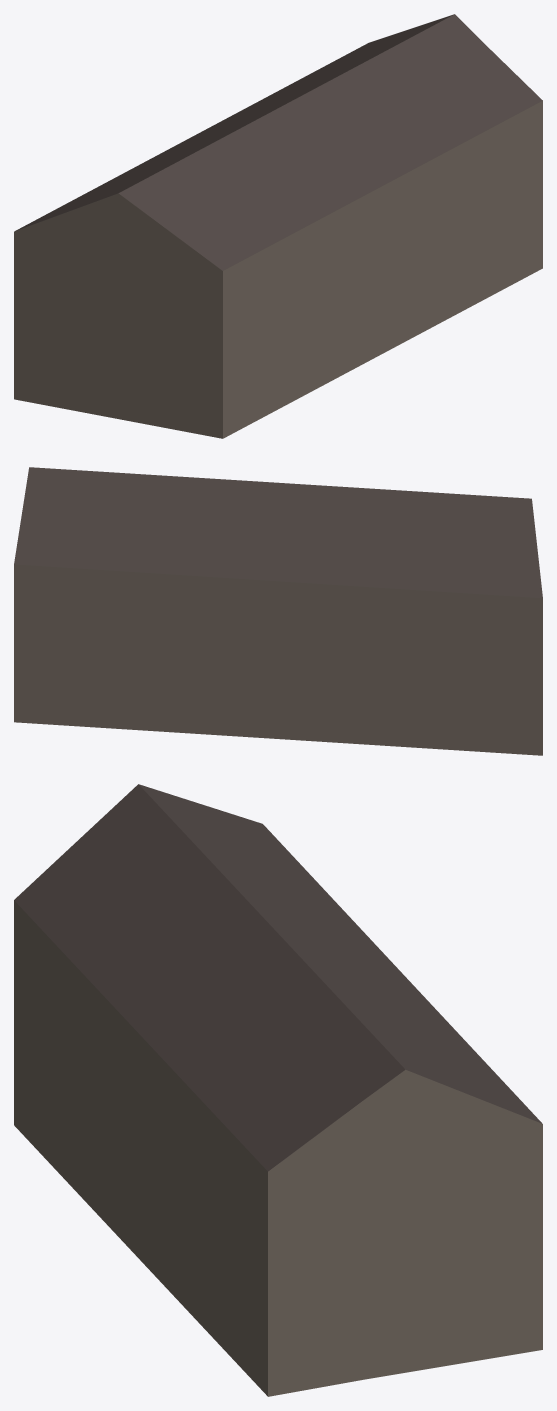
The picture shows the model from 3 angles, top to bottom: view 1: azimuth 30°, elevation 25°; view 2: azimuth 150°, elevation 25°; view 3: azimuth 270°, elevation 25°; orthographic projection. The views are drawn at different scales.
Visible parts, largest first — view 1: HP-w1198664277; view 2: HP-w1198664277; view 3: HP-w1198664277.
Boxes of the visible parts, left/top/right/bottom form: HP-w1198664277: left=14, top=14, right=542, bottom=438; HP-w1198664277: left=14, top=467, right=542, bottom=755; HP-w1198664277: left=14, top=784, right=542, bottom=1396.
Size of the model in its own units: 29.81 by 12.11 by 19.16.
